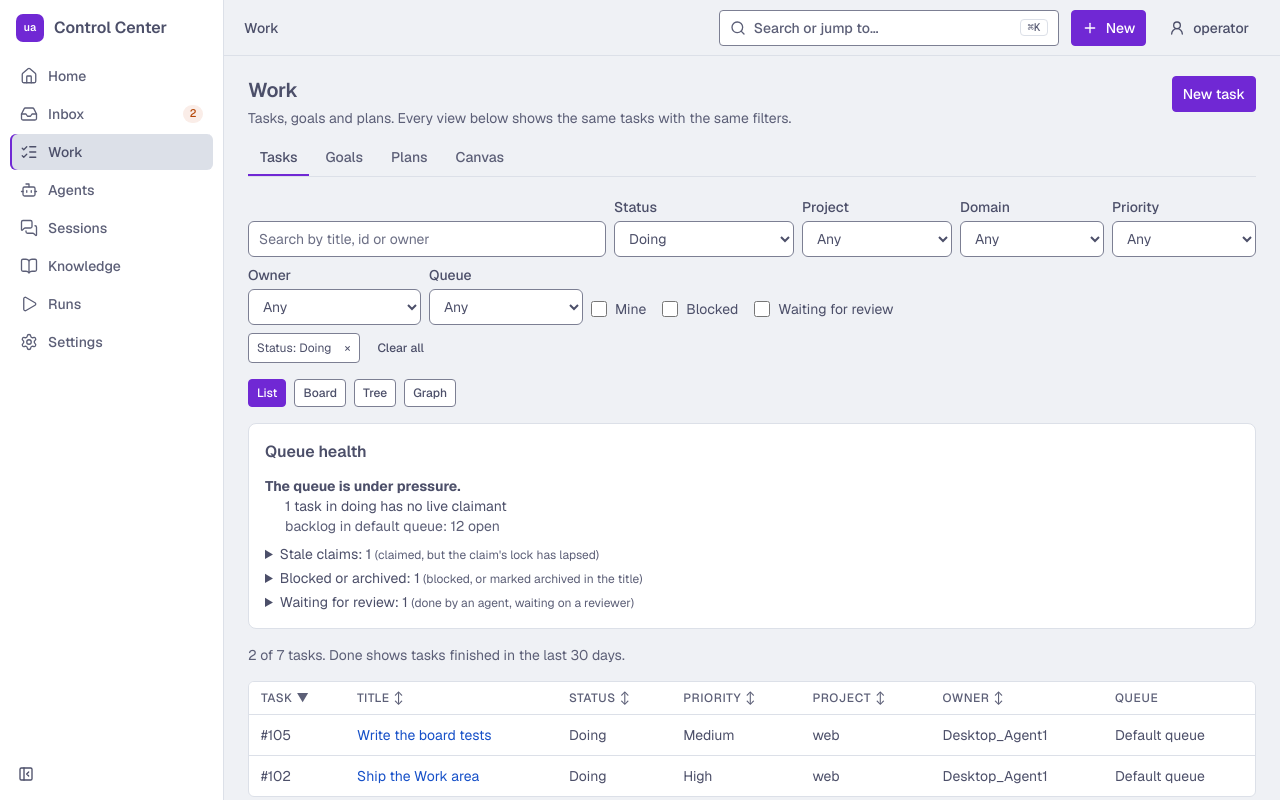
Scenario: work: task set › lists tasks and keeps filters in the URL
Click the checkbox labelled "Waiting for review": click(762, 309) top-left (754, 301), bottom-right (770, 317)
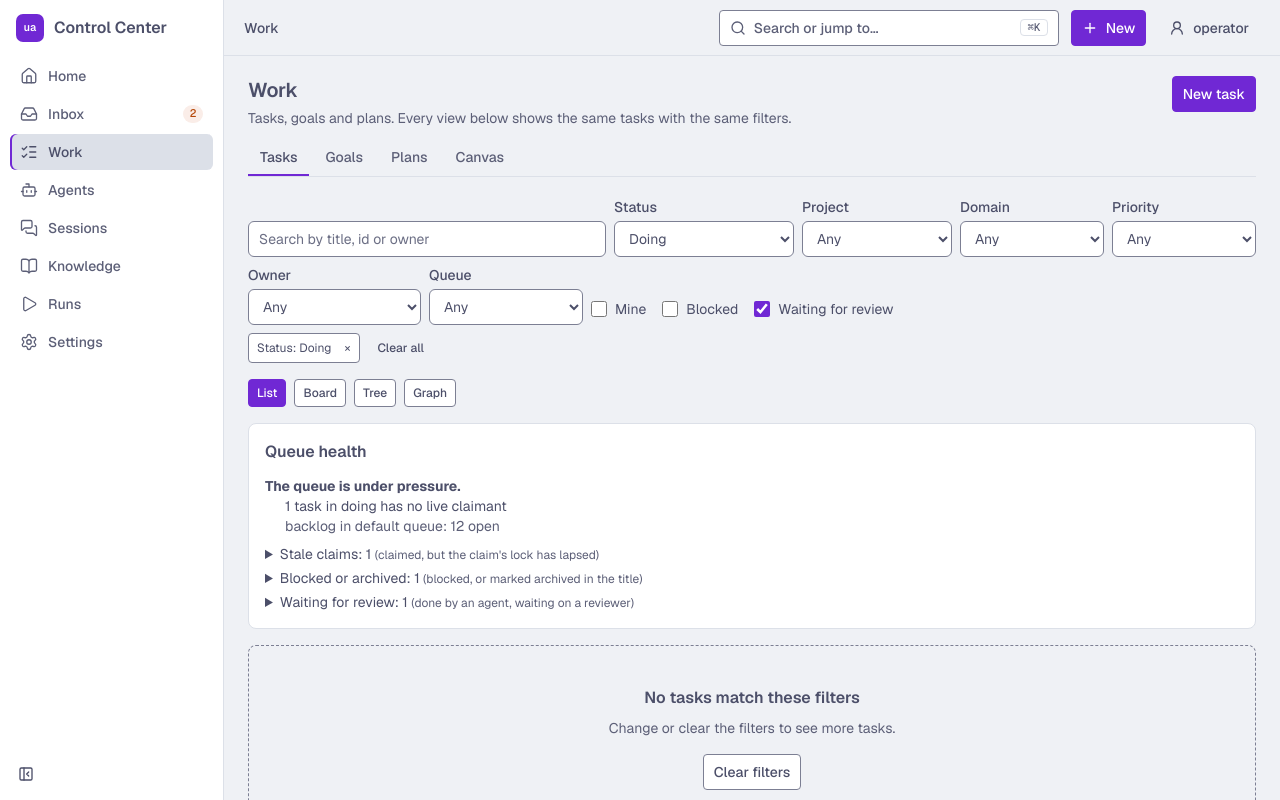
Result: the heading "No tasks match these filters" is shown at top-left (644, 686), bottom-right (860, 710)
